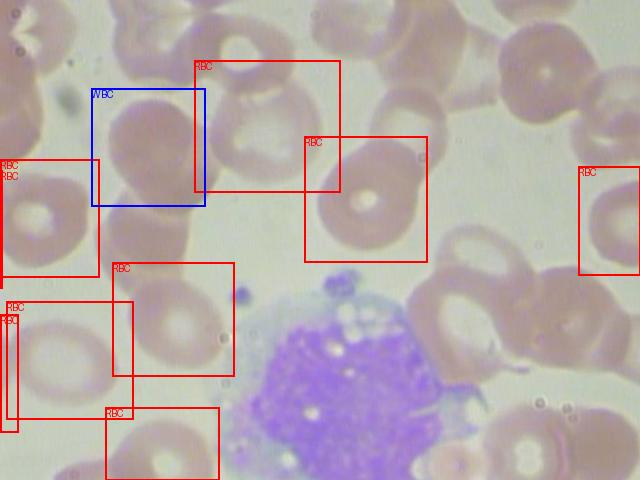RBC: (194, 60, 340, 192), (304, 136, 427, 262), (6, 301, 133, 419), (112, 262, 234, 376), (0, 159, 99, 277), (105, 407, 219, 480), (578, 166, 640, 275), (0, 314, 18, 432), (0, 170, 2, 288)
WBC: (91, 88, 205, 206)
